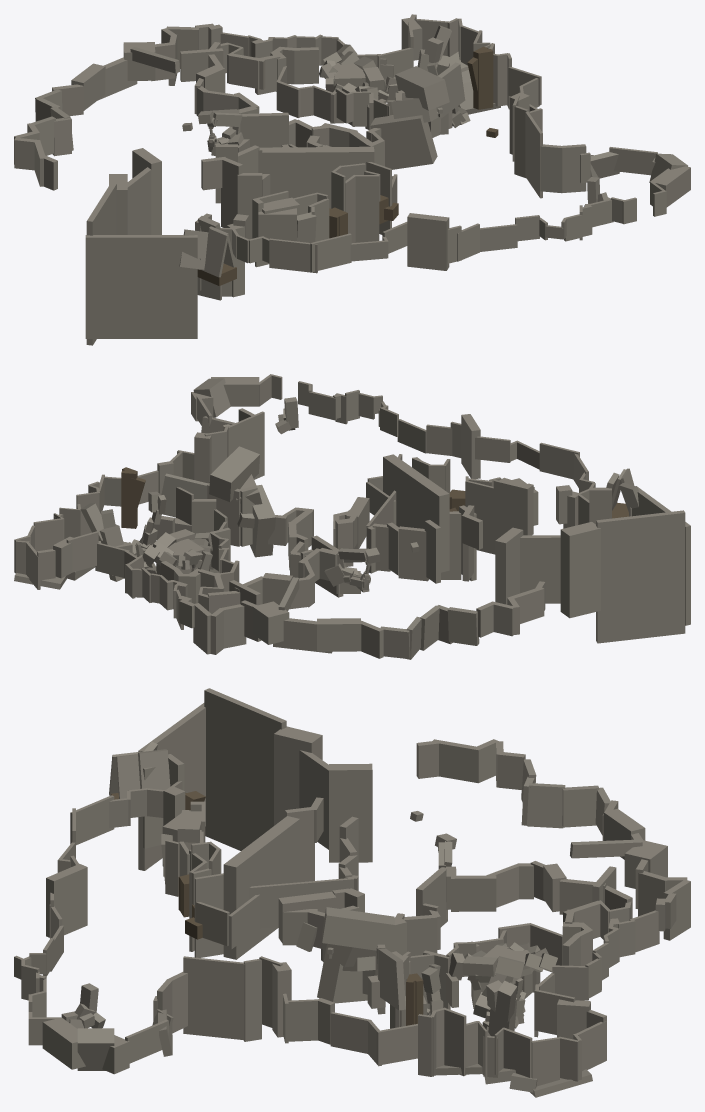
The model's file is CleanupWalls.fbx.
3 views of the same model, one above another, from view 1: azimuth 30°, elevation 25°; view 2: azimuth 150°, elevation 25°; view 3: azimuth 270°, elevation 25° (orthographic). The views are drawn at different scales.
Parts seen in each view (by area): view 1: Floor_03__397_, Floor_03__384_, Floor_03__258_, Wall_Cave__49_, Wall_Cave__66_, Floor_03__235_, Floor_03__266_, Floor_03__233_, Wall_Cave__54_, Floor_03__232_, Floor_03__236_, Wall_Cave__69_ (+52 smaller); view 2: Floor_03__236_, Floor_03__384_, Floor_03__396_, Floor_03__233_, Floor_03__232_, Floor_03__266_, Wall_Cave__96_, Floor_03__208_, Floor_03__238_, Floor_03__268_, Wall_Cave__95_, Floor_03__224_ (+61 smaller); view 3: Floor_03__236_, Floor_03__384_, Floor_03__268_, Floor_03__232_, Floor_03__397_, Floor_03__396_, Floor_03__266_, Wall_Cave__49_, Floor_03__242_, Floor_03__233_, Floor_03__217_, Floor_03__258_ (+57 smaller).
Boxes of the visible parts, bbox=[...] form: Floor_03__397_: bbox=[85, 235, 197, 338]; Floor_03__384_: bbox=[262, 146, 374, 208]; Floor_03__258_: bbox=[370, 115, 437, 169]; Wall_Cave__49_: bbox=[407, 213, 449, 270]; Wall_Cave__66_: bbox=[354, 175, 379, 242]; Floor_03__235_: bbox=[240, 112, 288, 147]; Floor_03__266_: bbox=[395, 66, 449, 110]; Floor_03__233_: bbox=[127, 167, 151, 234]; Wall_Cave__54_: bbox=[269, 238, 317, 273]; Floor_03__232_: bbox=[132, 148, 161, 234]; Floor_03__236_: bbox=[86, 183, 116, 345]; Wall_Cave__69_: bbox=[310, 233, 351, 272]; Floor_03__236_: bbox=[596, 510, 685, 643]; Floor_03__384_: bbox=[383, 454, 449, 572]; Floor_03__396_: bbox=[560, 522, 600, 618]; Floor_03__233_: bbox=[520, 535, 560, 603]; Floor_03__232_: bbox=[495, 527, 523, 604]; Floor_03__266_: bbox=[209, 446, 259, 501]; Wall_Cave__96_: bbox=[493, 480, 525, 546]; Floor_03__208_: bbox=[317, 618, 361, 651]; Floor_03__238_: bbox=[398, 526, 428, 581]; Floor_03__268_: bbox=[228, 411, 264, 479]; Wall_Cave__95_: bbox=[465, 480, 495, 554]; Floor_03__224_: bbox=[252, 601, 289, 644]; Floor_03__236_: bbox=[204, 688, 286, 850]; Floor_03__384_: bbox=[223, 816, 299, 959]; Floor_03__268_: bbox=[183, 956, 245, 1040]; Floor_03__232_: bbox=[329, 763, 372, 862]; Floor_03__397_: bbox=[138, 703, 205, 870]; Floor_03__396_: bbox=[274, 726, 322, 825]; Floor_03__266_: bbox=[322, 907, 394, 951]; Wall_Cave__49_: bbox=[46, 863, 87, 937]; Floor_03__242_: bbox=[249, 877, 353, 928]; Floor_03__233_: bbox=[299, 750, 328, 849]; Floor_03__217_: bbox=[451, 875, 496, 911]; Floor_03__258_: bbox=[317, 943, 367, 1003].
Size of the model in its own units: 10242 by 2295 by 9287.
